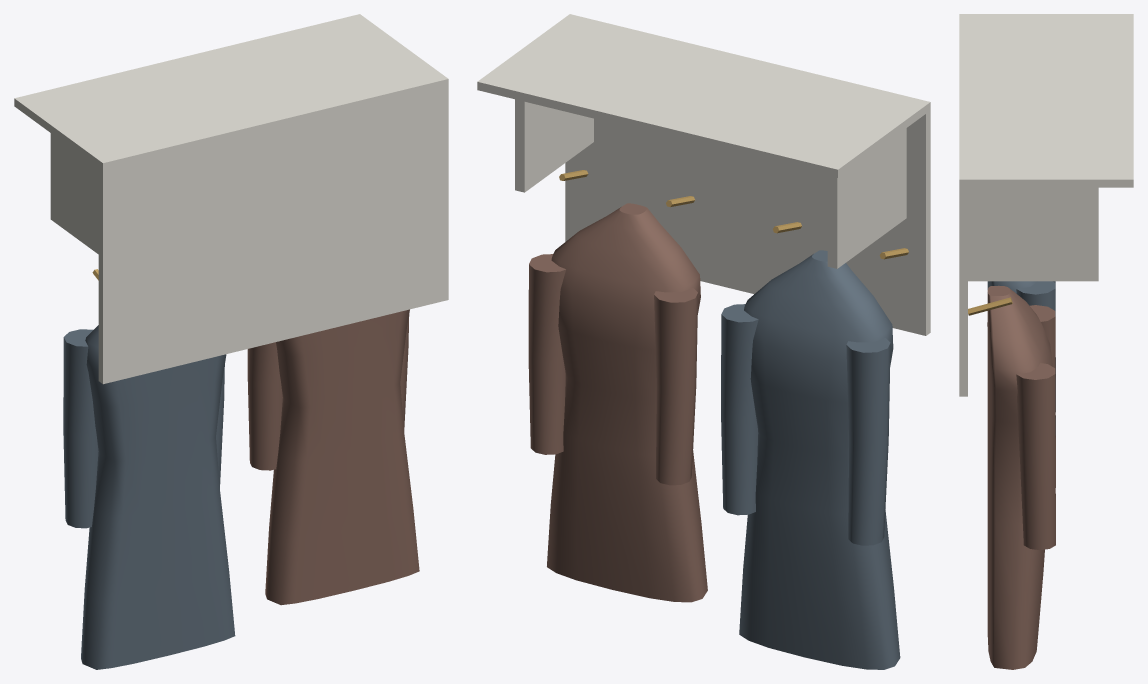
The model's file is parametric-wall-coat-rack-service-0900x0400x1900.glb.
3 renders of one model, left to right at view 1: azimuth 30°, elevation 25°; view 2: azimuth 150°, elevation 25°; view 3: azimuth 270°, elevation 25°, orthographic. The views are drawn at different scales.
Parts seen in each view (by area): view 1: backboard, coat:0, coat:1, hat-shelf, coat-sleeve:0:-1, bracket:-1, coat-sleeve:1:-1; view 2: coat:0, coat:1, hat-shelf, backboard, coat-sleeve:0:-1, coat-sleeve:1:-1, bracket:-1, coat-sleeve:0:1, coat-sleeve:1:1, bracket:1; view 3: hat-shelf, coat:1, bracket:1, coat-sleeve:1:1, backboard, coat-sleeve:0:1, coat-sleeve:1:-1, hook:3, coat:0.
Boxes of the visible parts, bbox=[...] form: backboard: bbox=[98, 87, 448, 384]; coat:0: bbox=[81, 325, 235, 669]; coat:1: bbox=[265, 309, 419, 605]; hat-shelf: bbox=[14, 14, 448, 171]; coat-sleeve:0:-1: bbox=[63, 329, 98, 528]; bracket:-1: bbox=[50, 133, 98, 254]; coat-sleeve:1:-1: bbox=[247, 342, 282, 470]; coat:0: bbox=[739, 250, 900, 669]; coat:1: bbox=[547, 203, 707, 602]; hat-shelf: bbox=[477, 14, 930, 177]; backboard: bbox=[565, 110, 930, 335]; coat-sleeve:0:-1: bbox=[846, 338, 890, 545]; coat-sleeve:1:-1: bbox=[654, 288, 698, 485]; bracket:-1: bbox=[827, 128, 906, 268]; coat-sleeve:0:1: bbox=[721, 304, 758, 515]; coat-sleeve:1:1: bbox=[528, 254, 566, 454]; bracket:1: bbox=[515, 99, 593, 192]; hat-shelf: bbox=[959, 14, 1133, 187]; coat:1: bbox=[987, 285, 1052, 669]; bracket:1: bbox=[968, 187, 1098, 281]; coat-sleeve:1:1: bbox=[1016, 363, 1055, 550]; backboard: bbox=[959, 187, 967, 396]; coat-sleeve:0:1: bbox=[1016, 281, 1055, 435]; coat-sleeve:1:-1: bbox=[1030, 305, 1055, 487]; hook:3: bbox=[968, 297, 1012, 315]; coat:0: bbox=[987, 281, 1037, 293].
Bounding box in the file's own units: 0.9 × 1.3 × 0.4.
